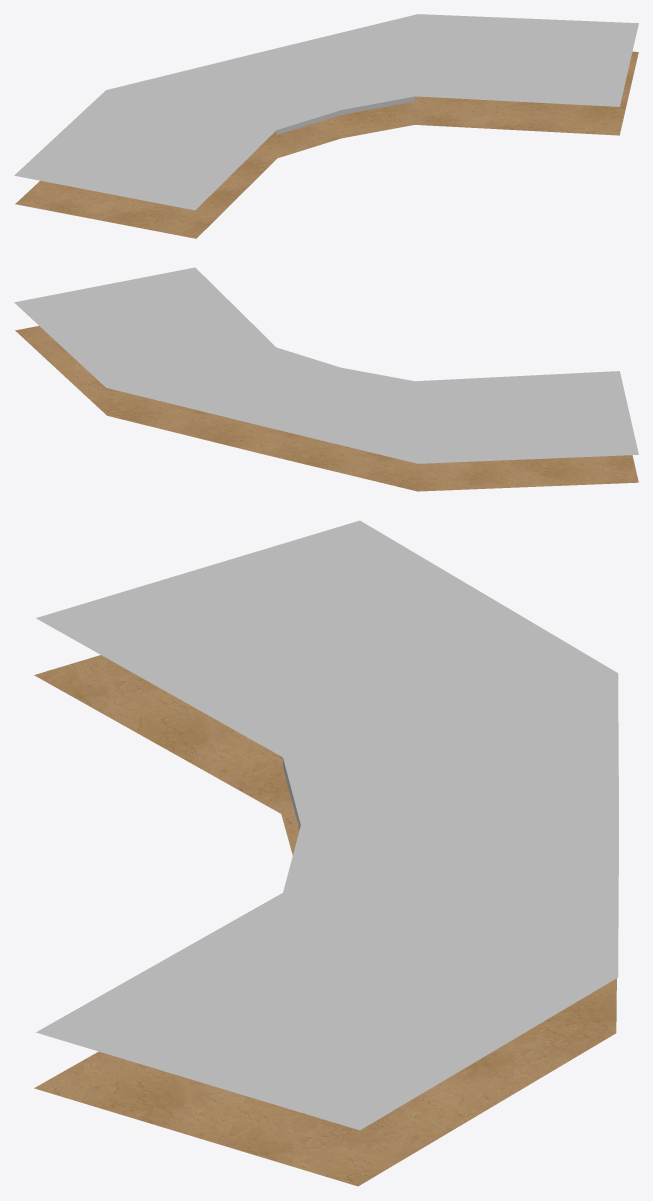
Rendered from chushengdian_no.FBX.
The picture shows the model from 3 angles, top to bottom: view 1: azimuth 30°, elevation 25°; view 2: azimuth 150°, elevation 25°; view 3: azimuth 270°, elevation 25°; orthographic projection. The views are drawn at different scales.
Parts seen in each view (by area): view 1: chushengdian_noA, chushengdian_noB; view 2: chushengdian_noA, chushengdian_noB; view 3: chushengdian_noA, chushengdian_noB.
Boxes of the visible parts, x1,y1,x2,y2 form: chushengdian_noA: [14, 14, 638, 210]; chushengdian_noB: [15, 51, 638, 238]; chushengdian_noA: [14, 267, 638, 463]; chushengdian_noB: [15, 326, 638, 491]; chushengdian_noA: [36, 520, 618, 1130]; chushengdian_noB: [34, 655, 616, 1186].
Bounding box in the file's own units: 71.83 × 3.13 × 29.13.
